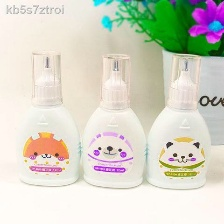correction_fluid: (142, 49, 214, 193), (77, 51, 150, 190), (13, 48, 83, 189)
